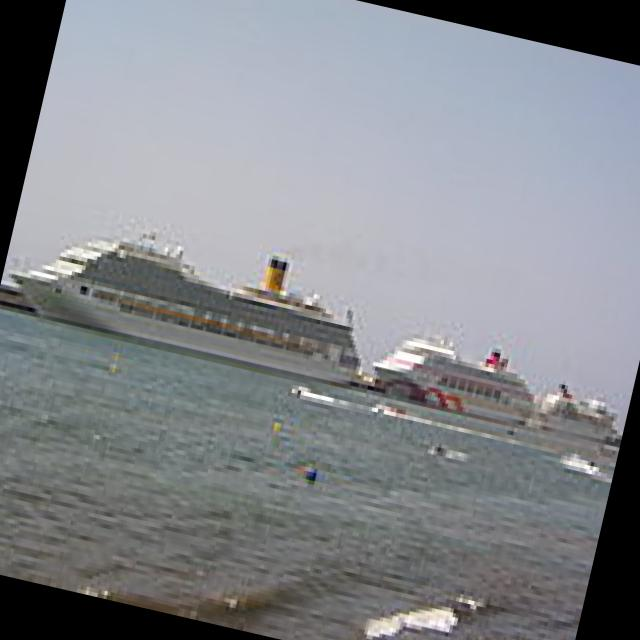boat: (19, 216, 378, 397), (370, 320, 554, 440)
